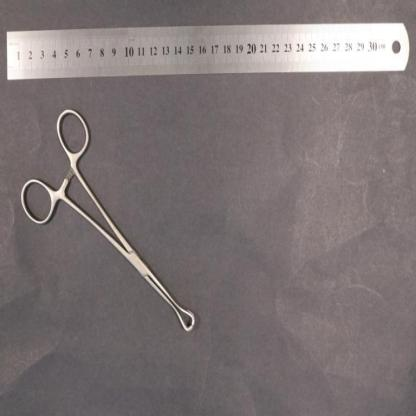Babcock Tissue Forceps: (21, 108, 195, 333)
